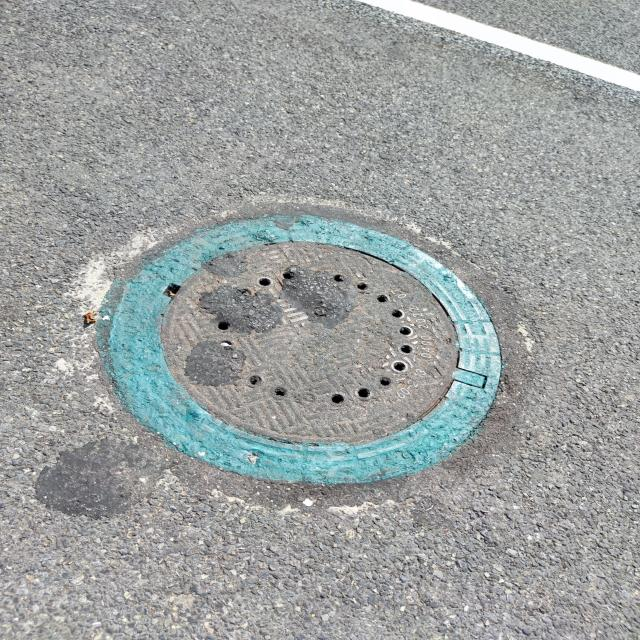Good: (100, 207, 512, 490)
